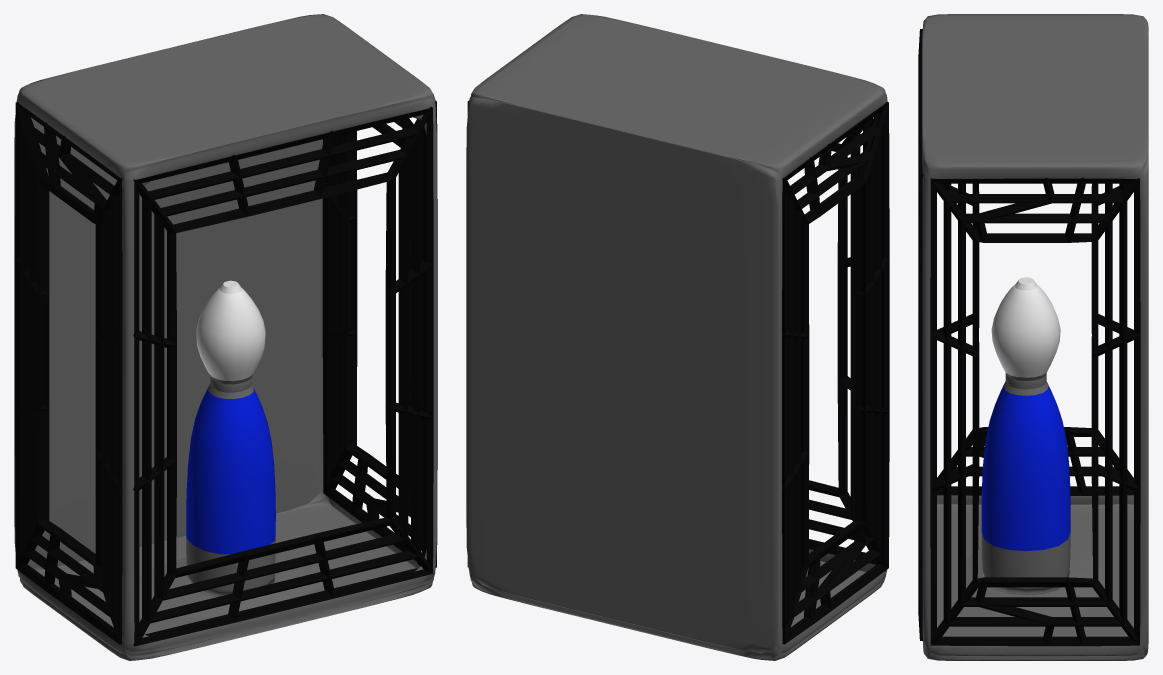
File: lampaSciana.fbx
3 views of the same model, side by side, from view 1: azimuth 30°, elevation 25°; view 2: azimuth 150°, elevation 25°; view 3: azimuth 270°, elevation 25° (orthographic).
Visible parts, largest first — view 1: Lamp, WireLamp; view 2: Lamp, WireLamp; view 3: Lamp, WireLamp.
Part boxes in pixels (x1,y1,x2,y2): Lamp: (14,14,436,660); WireLamp: (15,100,437,646); Lamp: (466,14,887,660); WireLamp: (467,100,889,644); Lamp: (922,14,1148,660); WireLamp: (918,29,1140,646).
Size of the model in its own units: 61.3 by 91 by 38.2.
